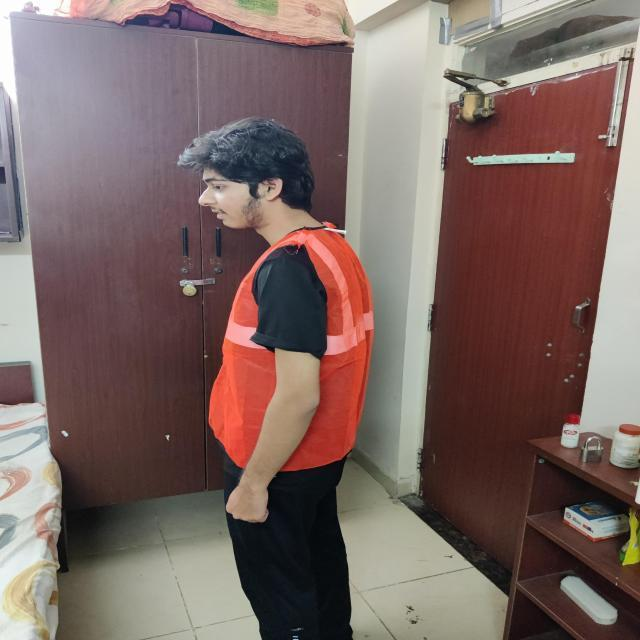no-helmet: (185, 114, 303, 206)
vest: (205, 230, 369, 472)
